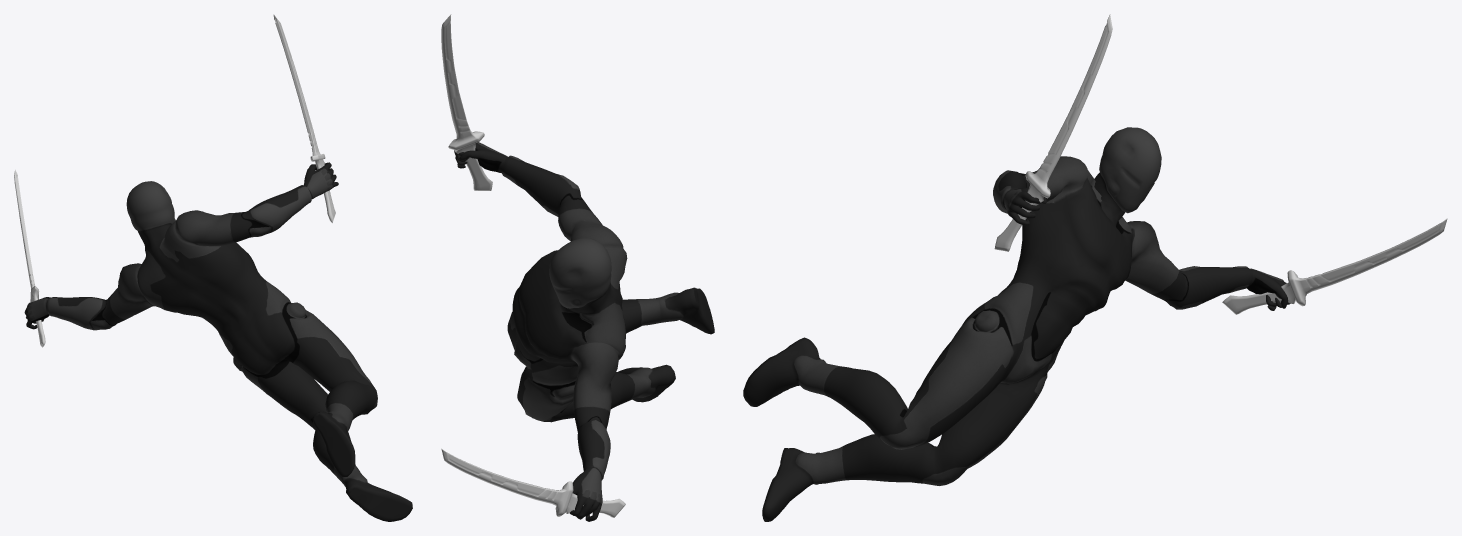
3 renders of one model, left to right at view 1: azimuth 30°, elevation 25°; view 2: azimuth 150°, elevation 25°; view 3: azimuth 270°, elevation 25°, orthographic. The views are drawn at different scales.
Parts seen in each view (by area): view 1: Cyborg_Ninja_Killer, Sword_l001, Sword_l; view 2: Cyborg_Ninja_Killer, Sword_l001, Sword_l; view 3: Cyborg_Ninja_Killer, Sword_l, Sword_l001.
Part boxes in pixels (x1,y1,x2,y2): Cyborg_Ninja_Killer: (24, 162, 412, 521); Sword_l001: (273, 14, 335, 222); Sword_l: (14, 169, 45, 347); Cyborg_Ninja_Killer: (454, 142, 714, 521); Sword_l001: (441, 14, 492, 190); Sword_l: (441, 448, 625, 517); Cyborg_Ninja_Killer: (743, 127, 1290, 521); Sword_l: (1222, 218, 1447, 314); Sword_l001: (994, 14, 1112, 251).
Size of the model in its own units: 102 by 183 by 227.
